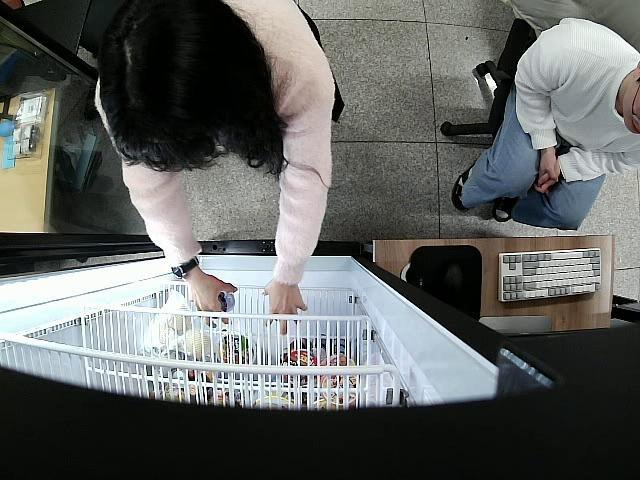14_welchsGrape: (213, 290, 236, 313)
